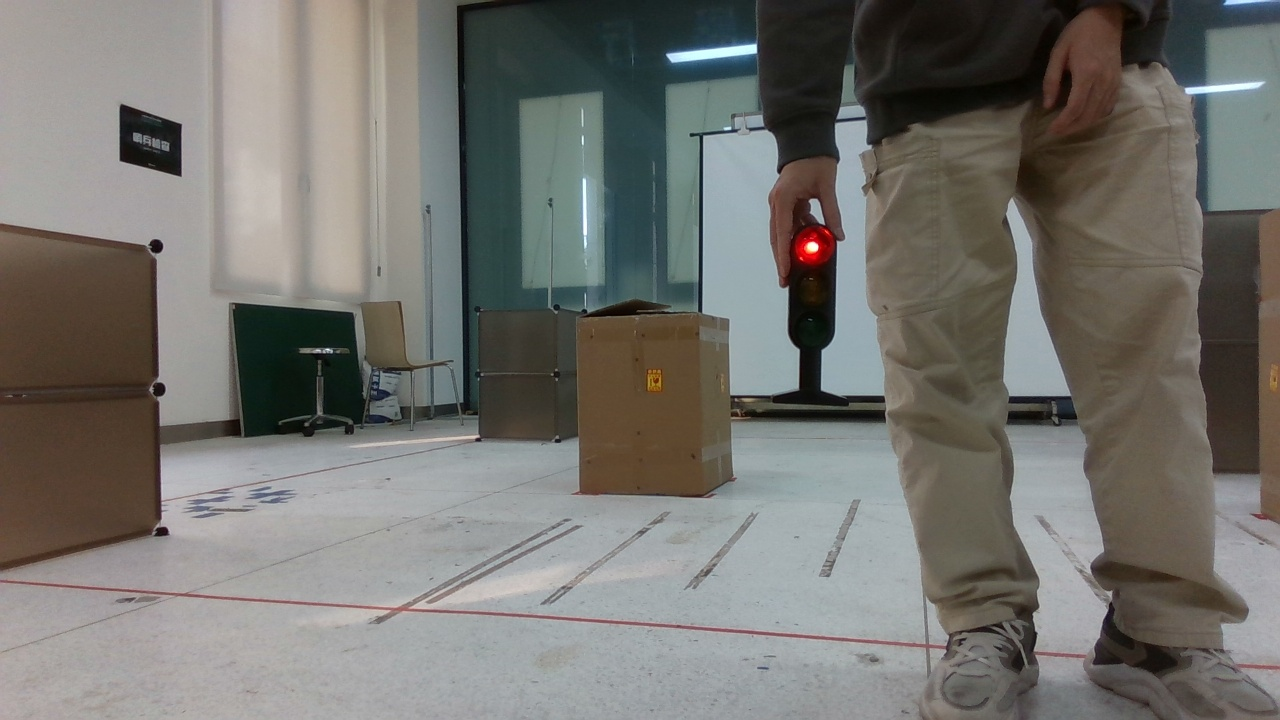red_light: (753, 222, 874, 425)
